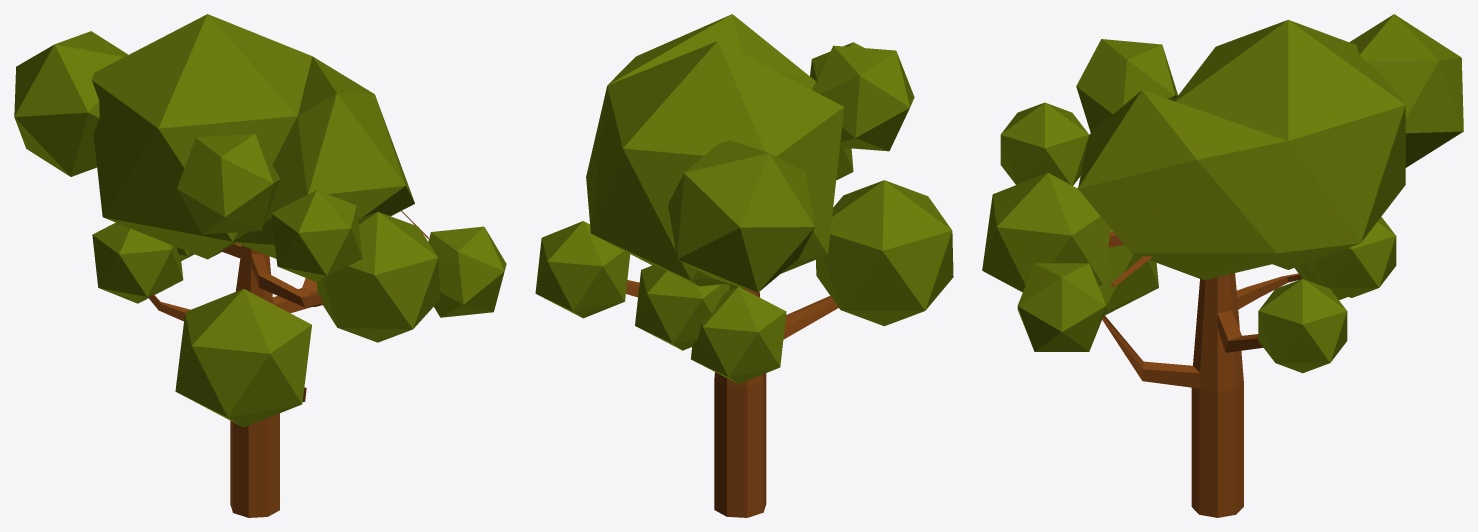
File: baum.fbx
3 views of the same model, side by side, from view 1: azimuth 30°, elevation 25°; view 2: azimuth 150°, elevation 25°; view 3: azimuth 270°, elevation 25° (orthographic). The views are drawn at different scales.
Visible parts, largest first — view 1: Baum; view 2: Baum; view 3: Baum.
Part boxes in pixels (x1,y1,x2,y2): Baum: [14, 14, 506, 517]; Baum: [535, 14, 953, 517]; Baum: [982, 14, 1463, 517].
Bounding box in the file's own units: 747 × 1017 × 923.
